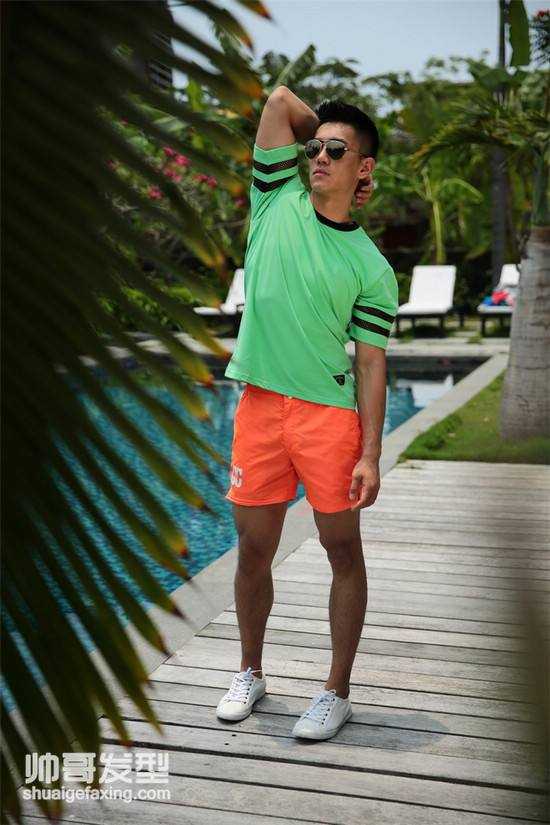person: (144, 57, 436, 736)
